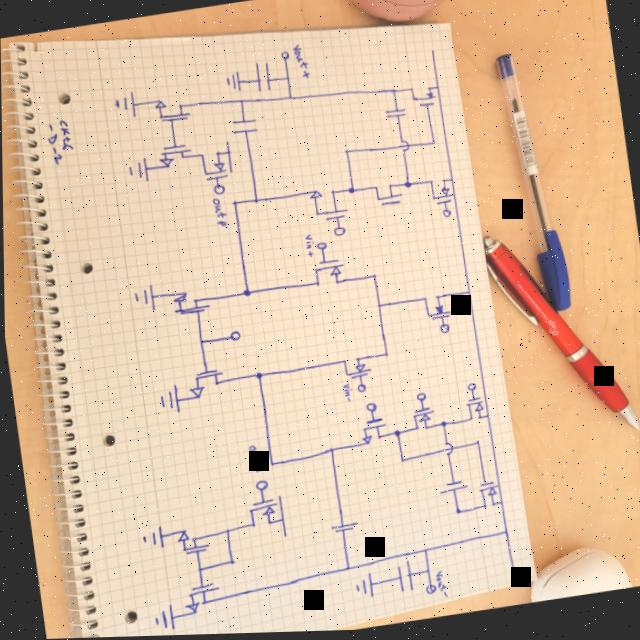capacitor: (250, 57, 274, 95), (228, 113, 261, 138), (392, 559, 413, 598), (436, 478, 468, 497), (328, 519, 359, 538), (383, 107, 408, 122)
crossover: (396, 137, 412, 156), (440, 442, 454, 458)
ground: (109, 88, 138, 121), (131, 283, 157, 313), (156, 383, 180, 415), (150, 603, 175, 633), (125, 156, 150, 184), (350, 572, 374, 601), (139, 524, 164, 551), (224, 68, 243, 95)
junction: (241, 287, 252, 297), (253, 370, 263, 380), (392, 428, 401, 439), (403, 180, 412, 190), (472, 438, 481, 448), (499, 528, 508, 538), (196, 337, 205, 347), (283, 74, 292, 84), (343, 564, 352, 574), (438, 420, 447, 429), (347, 186, 356, 195), (452, 508, 461, 517), (429, 139, 438, 148), (227, 557, 236, 566), (325, 446, 334, 455), (389, 87, 398, 96), (419, 546, 428, 555), (266, 460, 275, 469), (237, 97, 246, 106), (397, 457, 405, 466), (194, 565, 203, 573), (375, 302, 383, 311), (463, 289, 472, 297), (221, 527, 230, 535), (251, 196, 260, 204), (342, 148, 350, 156), (369, 272, 377, 280), (286, 93, 294, 101), (382, 351, 389, 359), (230, 199, 237, 207), (483, 414, 491, 421), (447, 177, 454, 184), (497, 500, 503, 508), (435, 85, 440, 91)
terminal: (274, 493, 287, 538), (223, 140, 233, 173), (422, 580, 441, 597), (253, 478, 268, 492), (331, 224, 346, 238), (212, 183, 225, 195), (228, 329, 240, 342), (438, 323, 450, 336), (314, 241, 328, 252), (415, 392, 426, 403), (364, 402, 375, 413), (355, 383, 366, 393), (281, 50, 290, 61), (465, 384, 476, 393), (442, 209, 451, 218), (429, 48, 436, 57), (508, 569, 515, 577)
text: (292, 42, 312, 82), (245, 442, 264, 474), (210, 196, 228, 228), (431, 570, 448, 600), (301, 232, 316, 259), (340, 382, 352, 404)
transistor: (176, 574, 223, 619), (166, 282, 215, 321), (306, 183, 349, 226), (184, 364, 226, 403), (152, 92, 195, 128), (172, 523, 213, 559), (309, 254, 346, 291), (338, 349, 375, 386), (157, 138, 194, 172), (405, 78, 439, 114), (369, 179, 404, 213), (423, 173, 455, 210), (243, 496, 278, 529), (419, 290, 451, 324), (198, 147, 228, 183), (356, 416, 388, 447), (474, 479, 501, 512), (408, 404, 436, 433), (461, 396, 486, 423)
